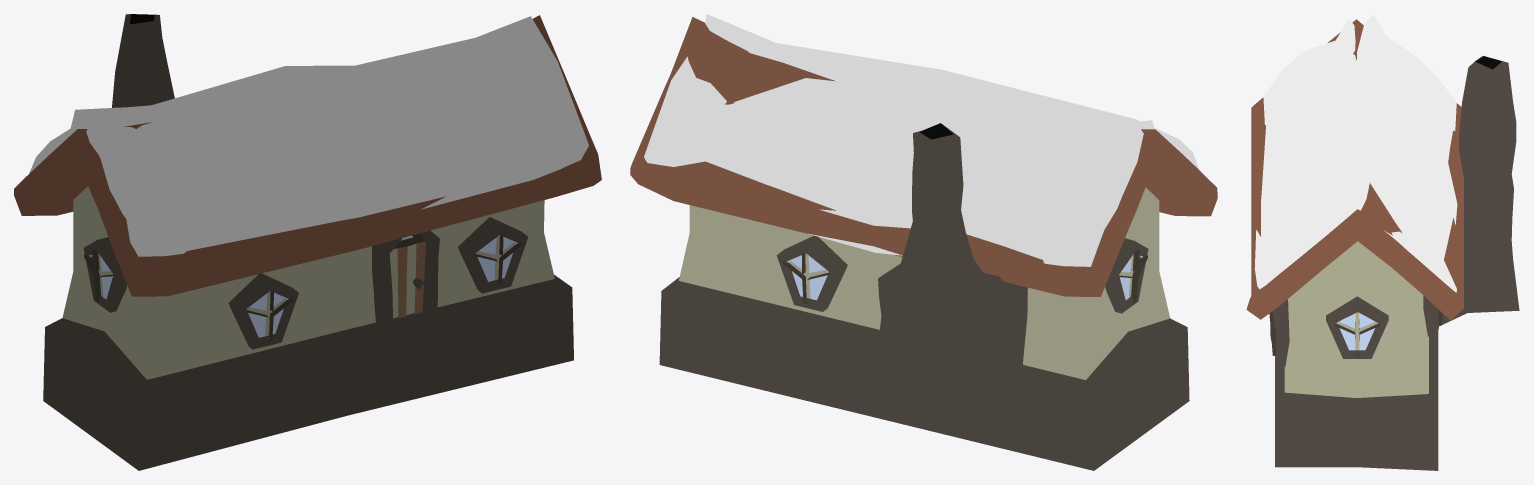
Rendered from house_long_02.dae.
The picture shows the model from 3 angles, left to right: view 1: azimuth 30°, elevation 25°; view 2: azimuth 150°, elevation 25°; view 3: azimuth 270°, elevation 25°; orthographic projection. The views are drawn at different scales.
Visible parts, largest first — view 1: house_long_02-0; view 2: house_long_02-0; view 3: house_long_02-0.
Boxes of the visible parts, box(x1,y1,x2,y2) form: house_long_02-0: box(14, 14, 601, 470); house_long_02-0: box(630, 14, 1217, 470); house_long_02-0: box(1246, 14, 1519, 470).
Size of the model in its own units: 13.69 by 9.37 by 8.18.
